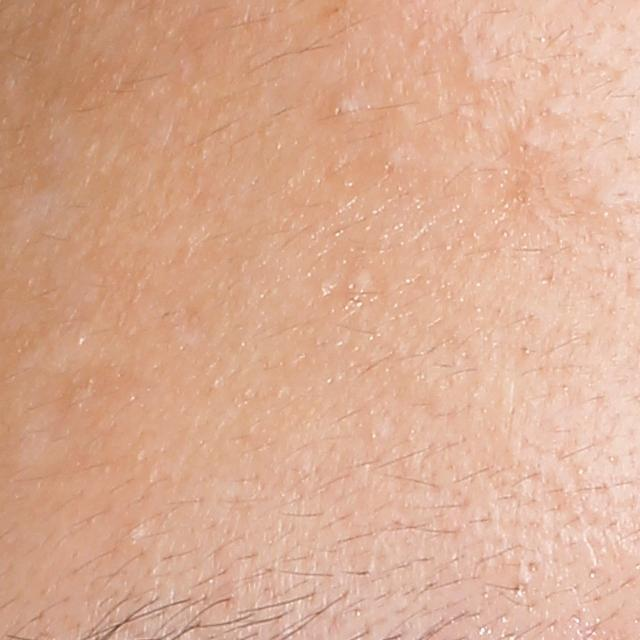comedo: (573, 171, 635, 234), (497, 121, 553, 179), (323, 89, 365, 128), (455, 51, 492, 90), (377, 142, 407, 176), (124, 521, 149, 544)
